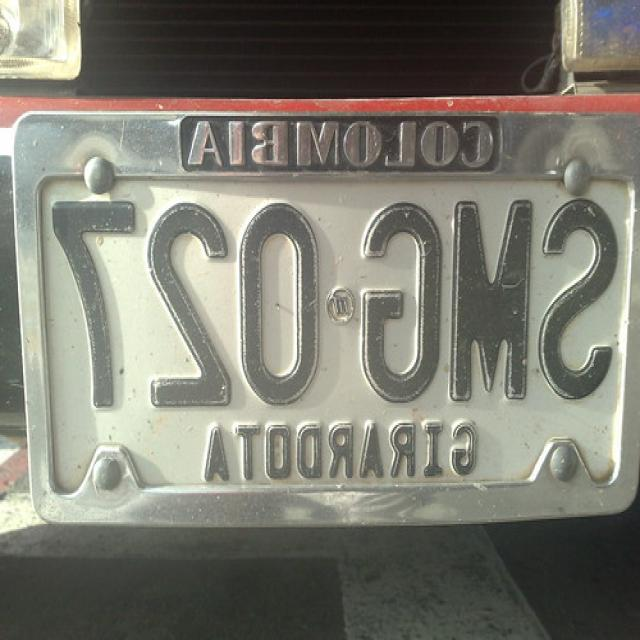placas: (36, 184, 617, 412)
